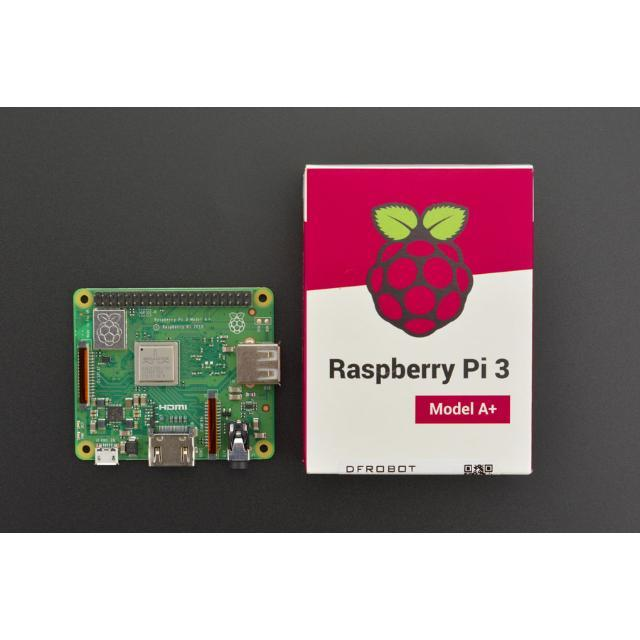Raspberry-Pi-3-A-: (74, 288, 281, 469)
